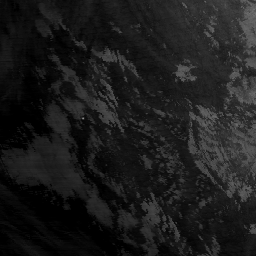Target: (80, 116, 85, 121)
